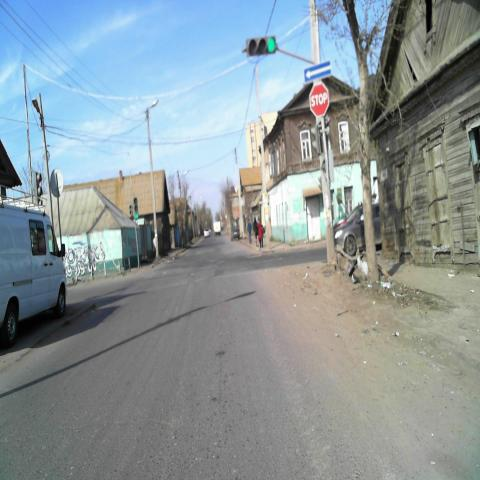5_7_2: (304, 60, 330, 81)
